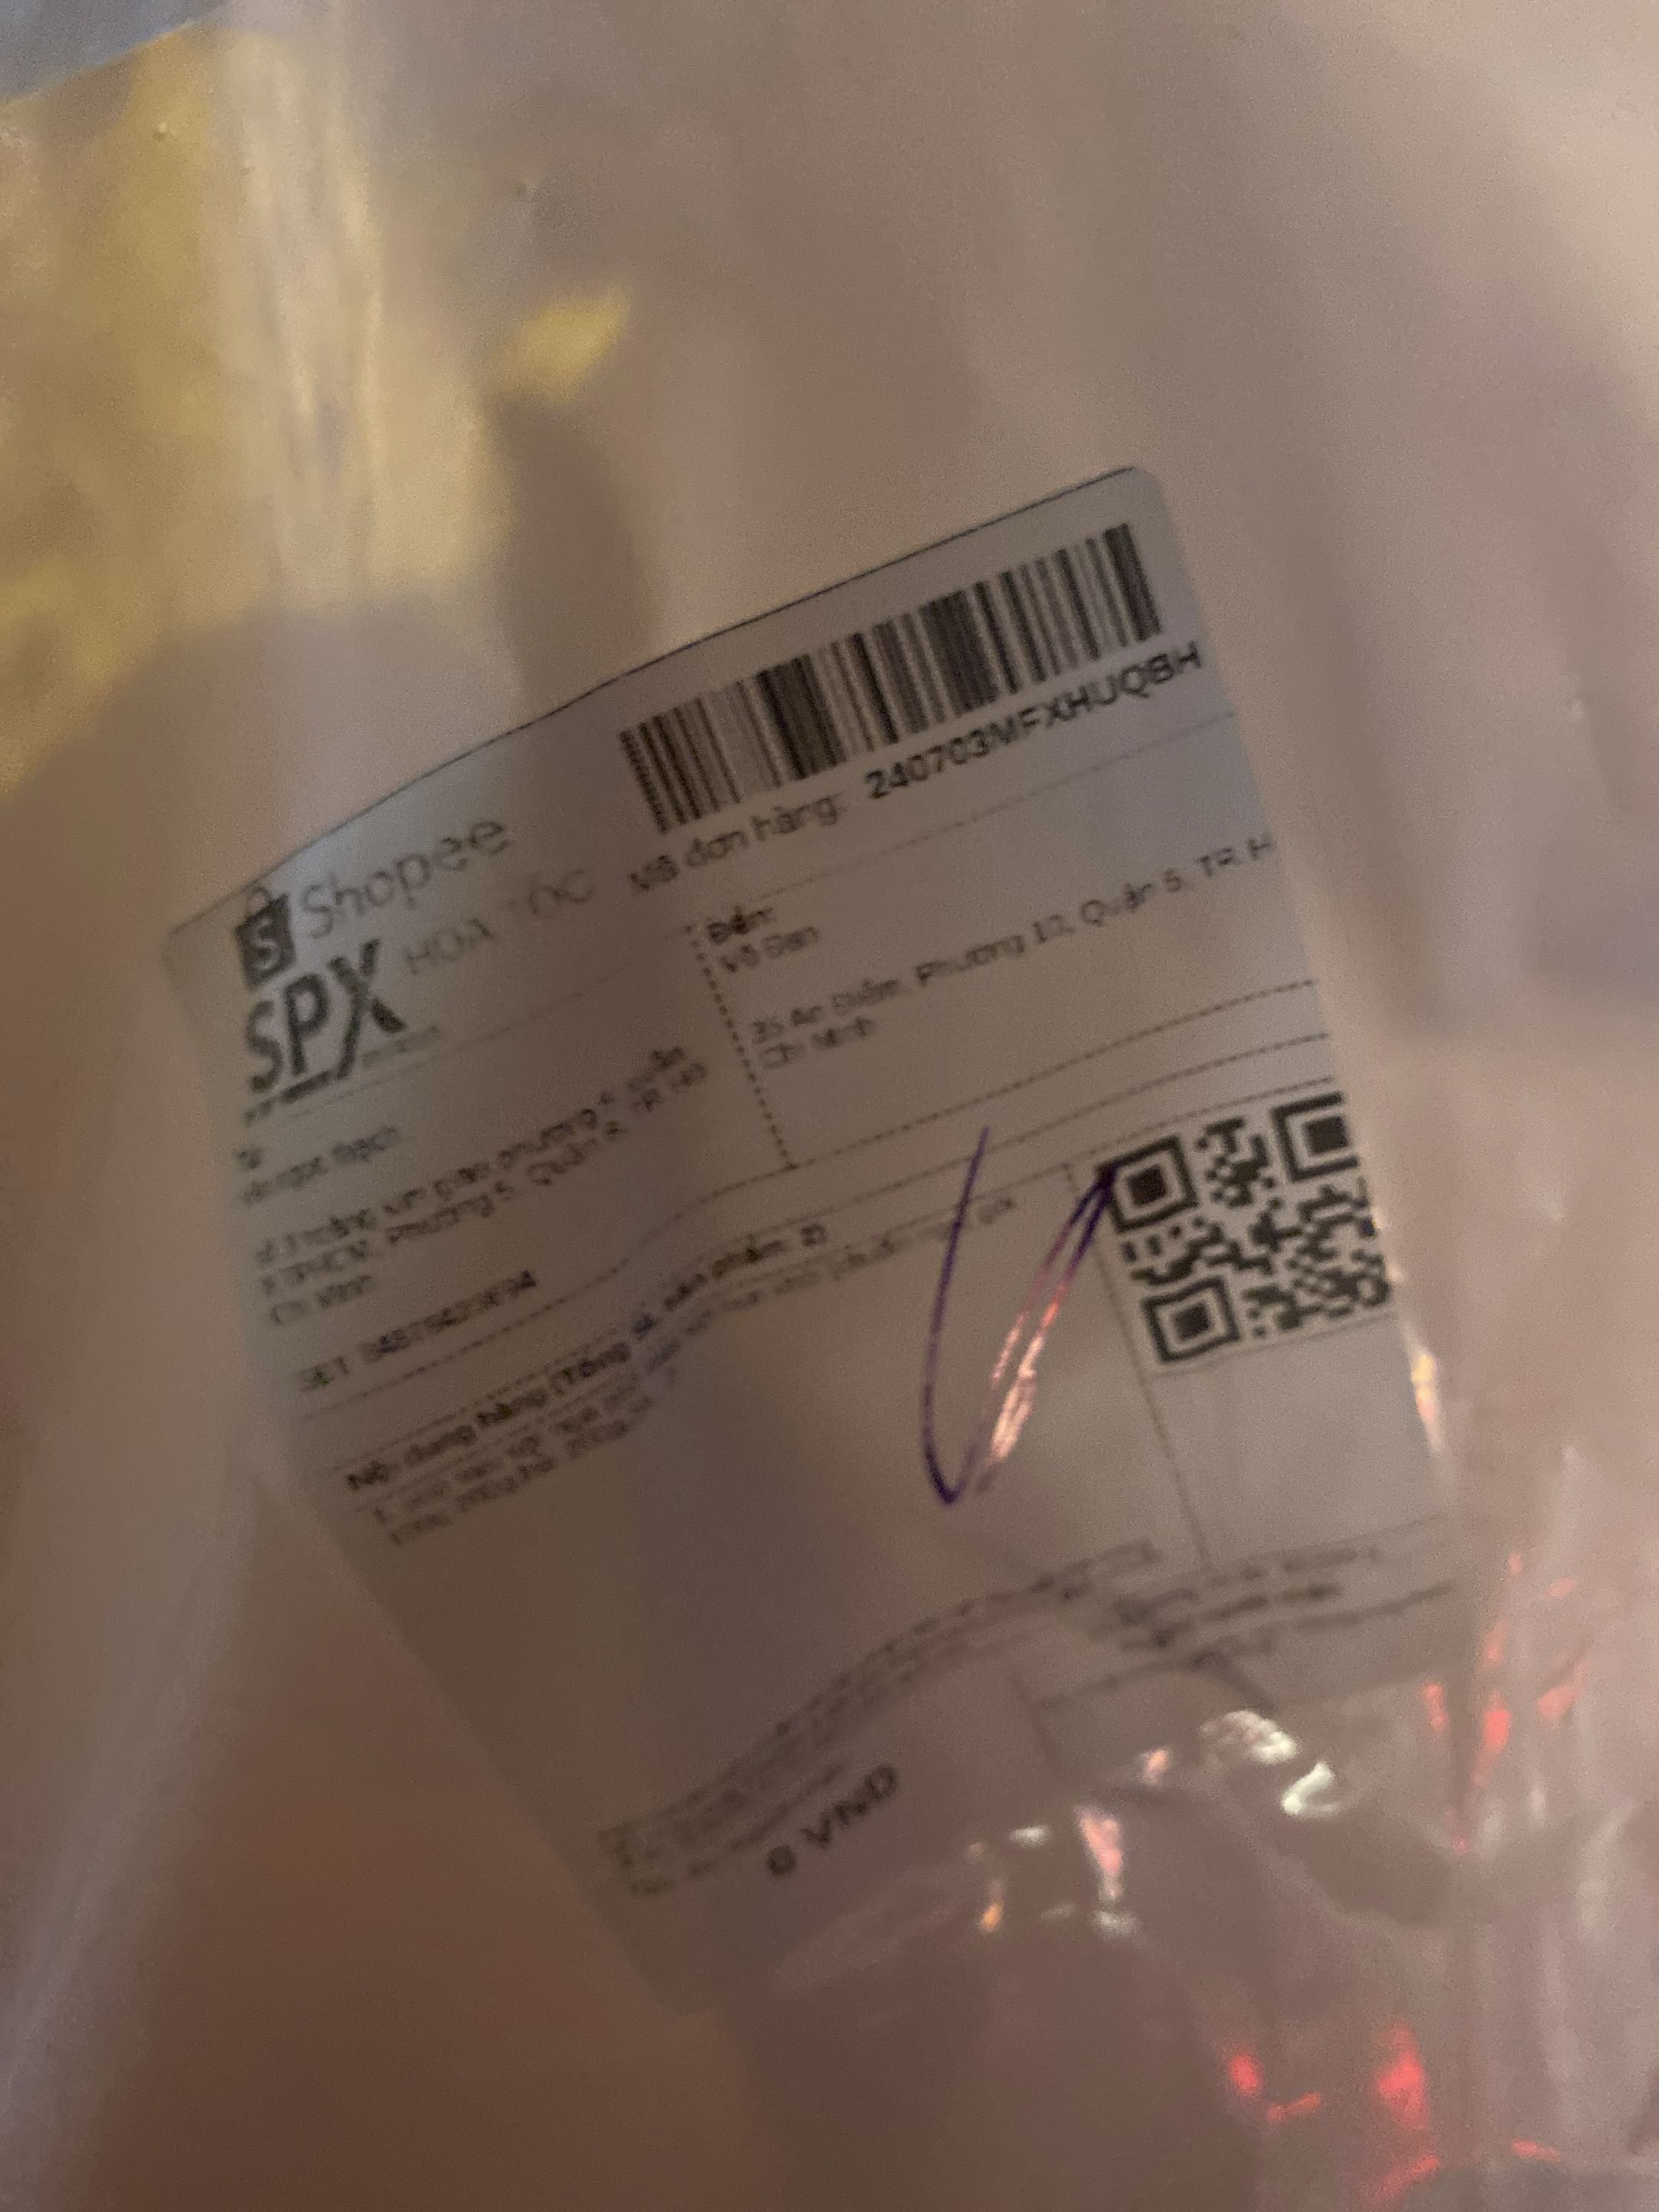pod: (106, 442, 1574, 2040)
